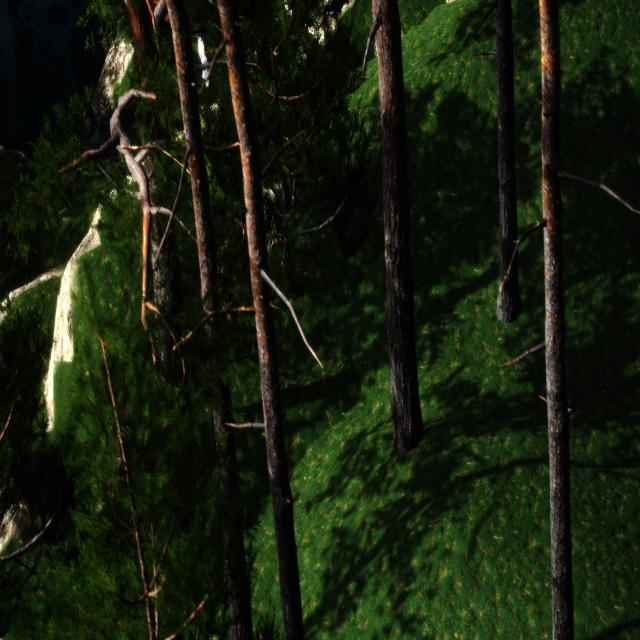Human: (192, 0, 215, 93)
